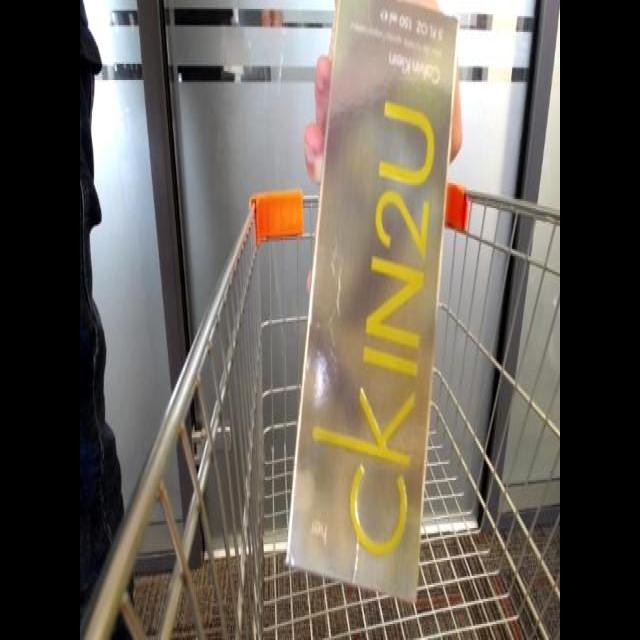Calvin Klein: (282, 12, 467, 601)
